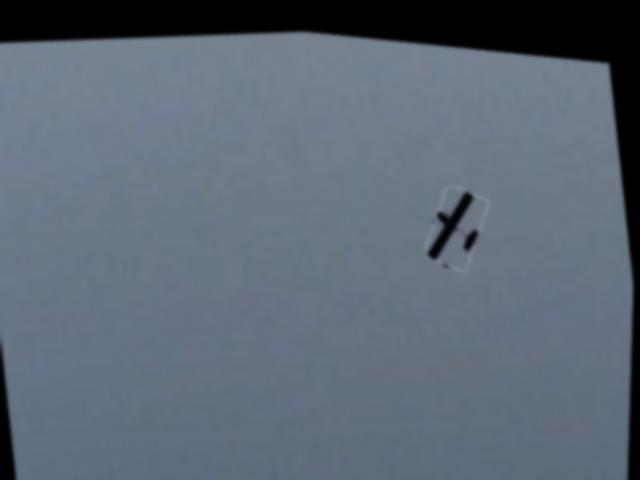insansiz-hava-araci: (422, 170, 493, 265)
